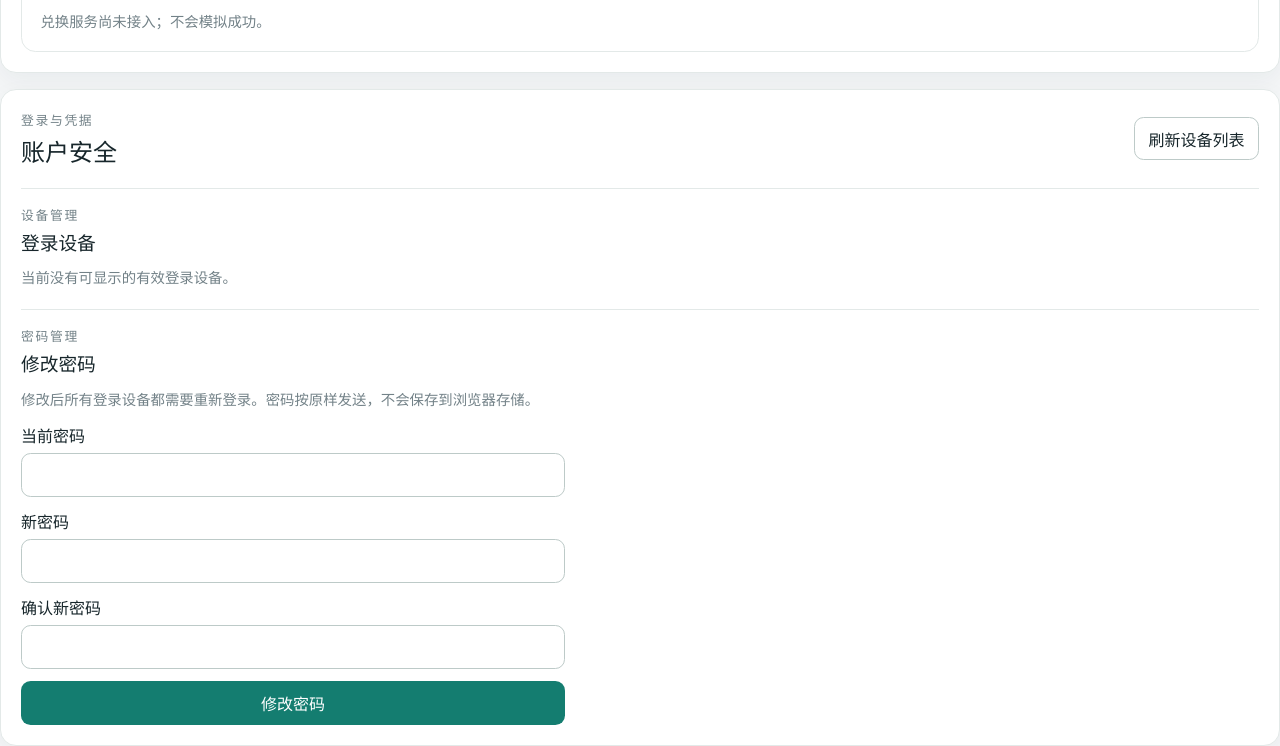
Test case: AccountPage › locks the bio editor when a password PUT is in flight with the editor closed
(page scrolled)
Type "current-secret" into the password field labelled "当前密码" at coordinates (293, 475), box [21,453,565,497]
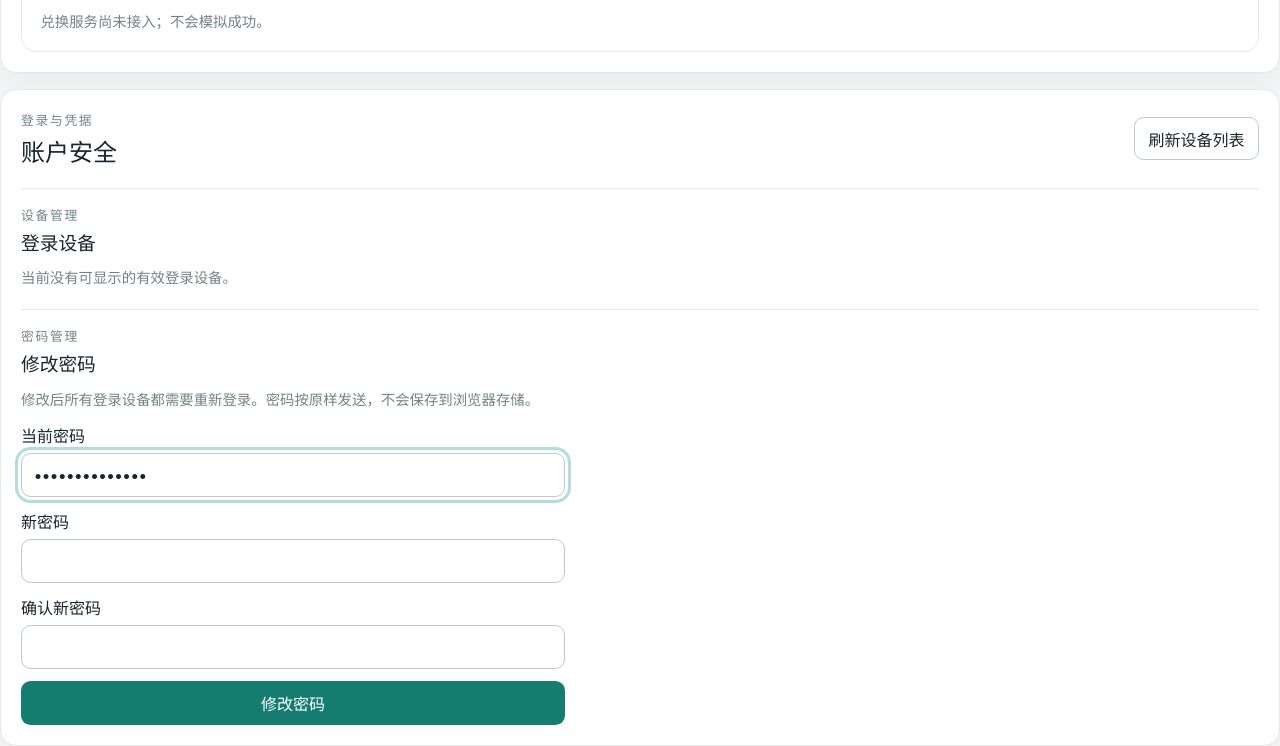
Type "new-secret-123" into the password field labelled "新密码" at coordinates (293, 561), box [21,539,565,583]
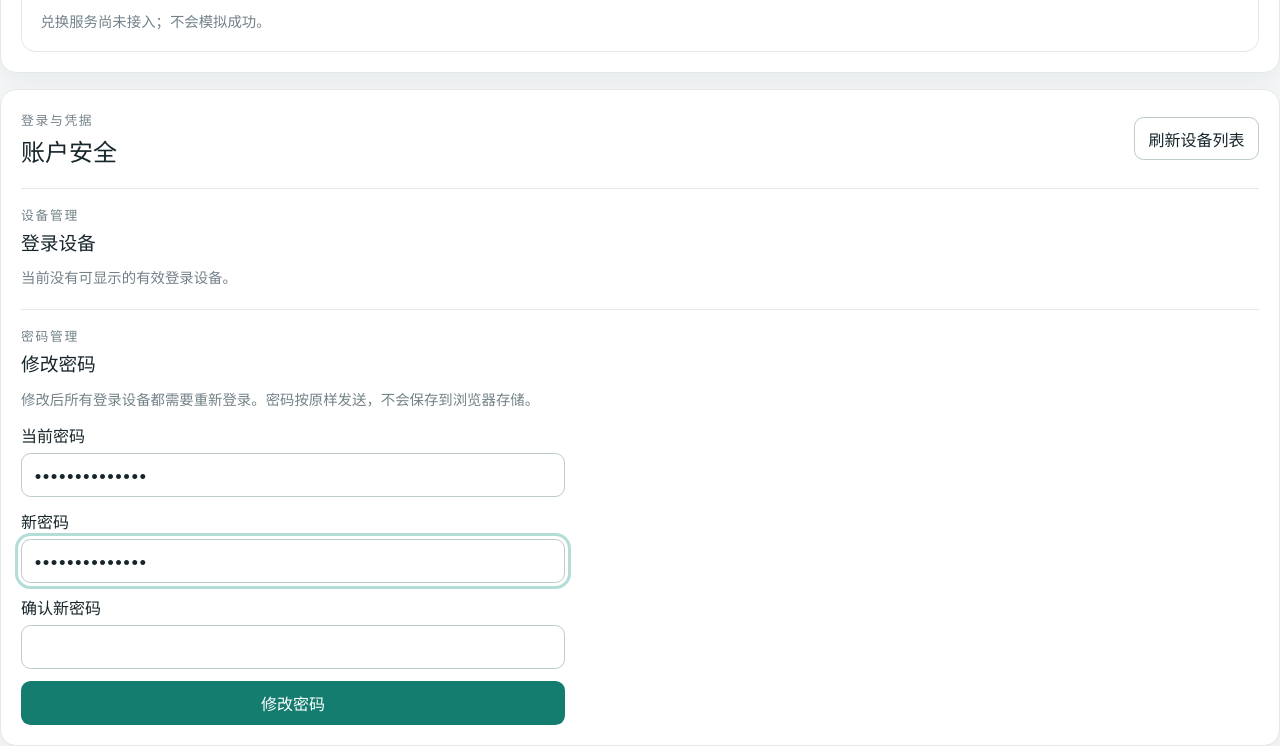
Type "new-secret-123" into the password field labelled "确认新密码" at coordinates (293, 647), box [21,625,565,669]
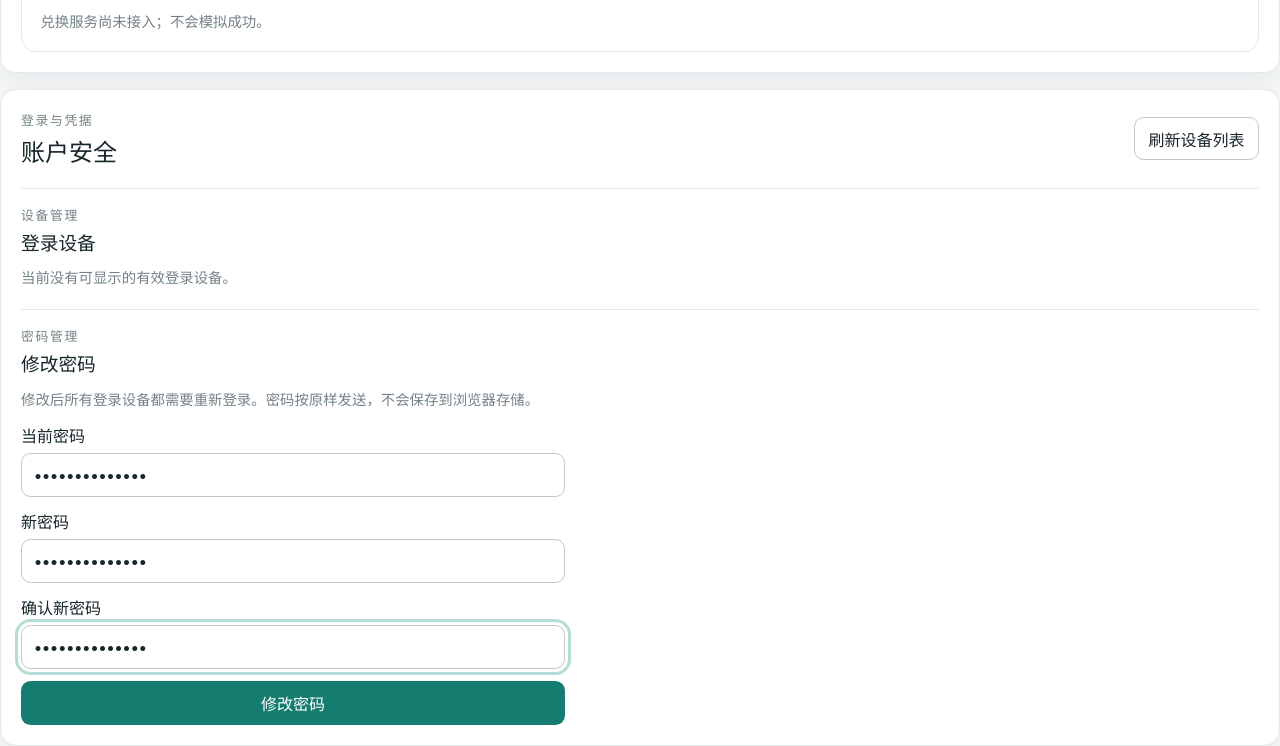
Click the button "修改密码" at coordinates (293, 703), box [21,681,565,725]
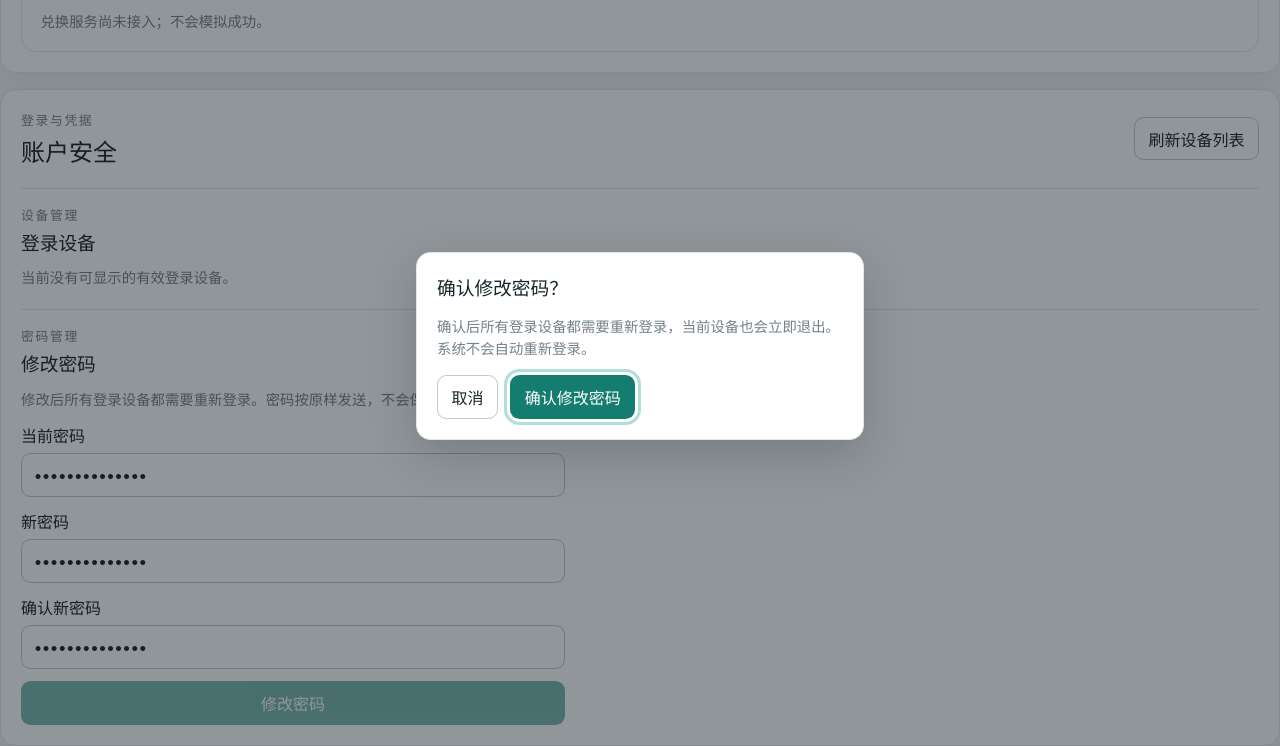
Click the button "确认修改密码" at coordinates (573, 397), box [510,375,635,419]
(page scrolled)
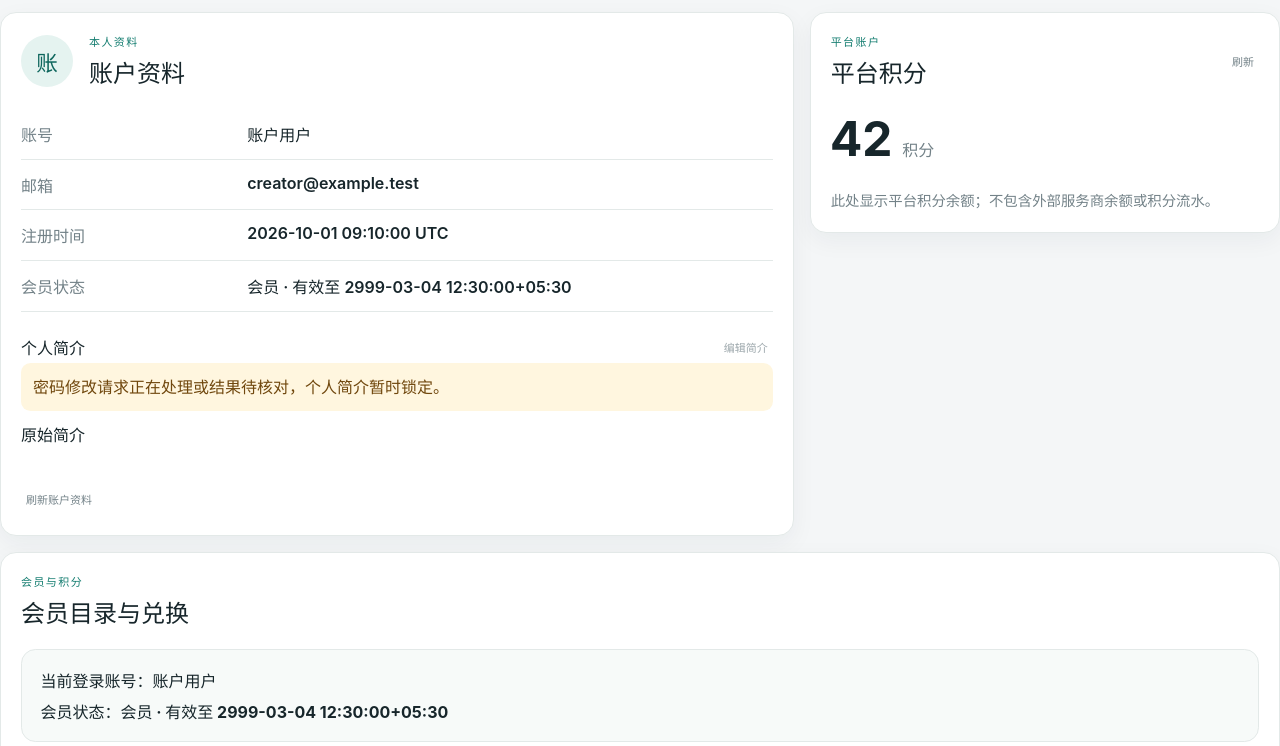
Expected: the button "编辑简介" is disabled, [719,331,773,363]
